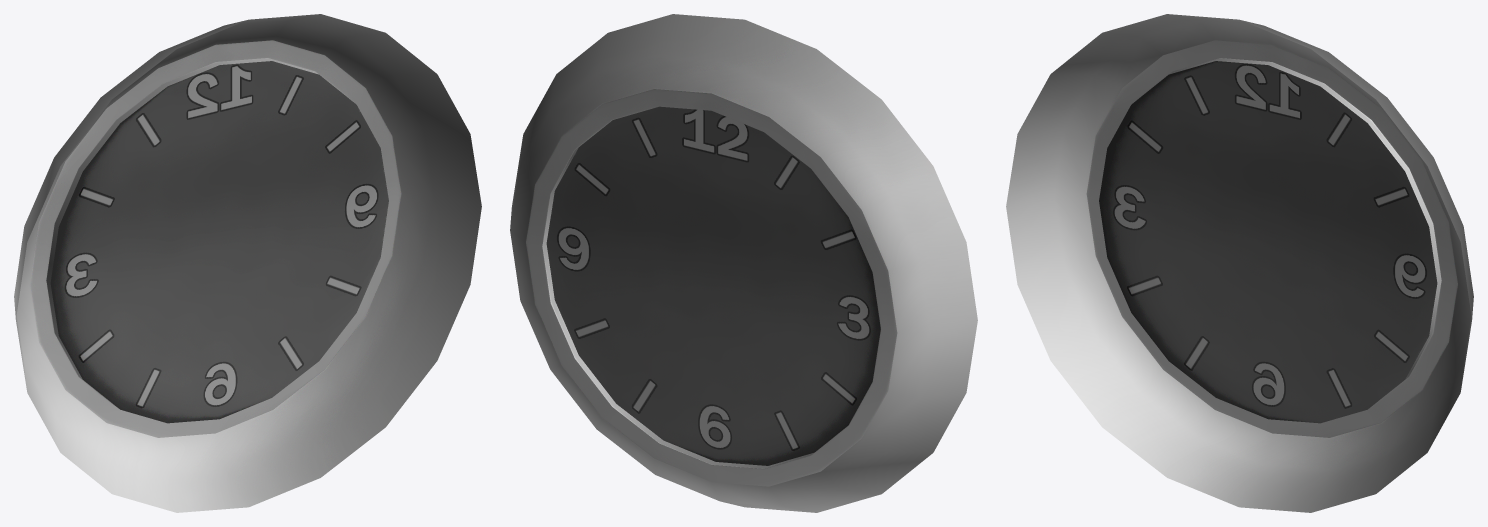
Rendered from HospitalClock.fbx.
The picture shows the model from 3 angles, left to right: view 1: azimuth 30°, elevation 25°; view 2: azimuth 150°, elevation 25°; view 3: azimuth 330°, elevation 25°; orthographic projection.
Parts seen in each view (by area): view 1: clock; view 2: clock; view 3: clock.
Boxes of the visible parts, left/top/right/bottom form: clock: left=14, top=14, right=481, bottom=512; clock: left=510, top=14, right=977, bottom=512; clock: left=1006, top=14, right=1473, bottom=512.
Size of the model in its own units: 0.5098 by 0.5098 by 0.063.
Materials: 1 (1 with a texture image).
